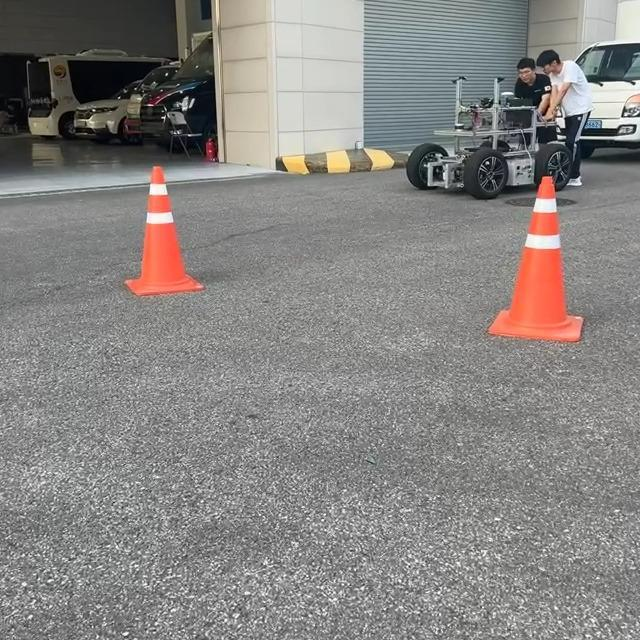fallen_object: (96, 170, 250, 332), (450, 172, 586, 341)
